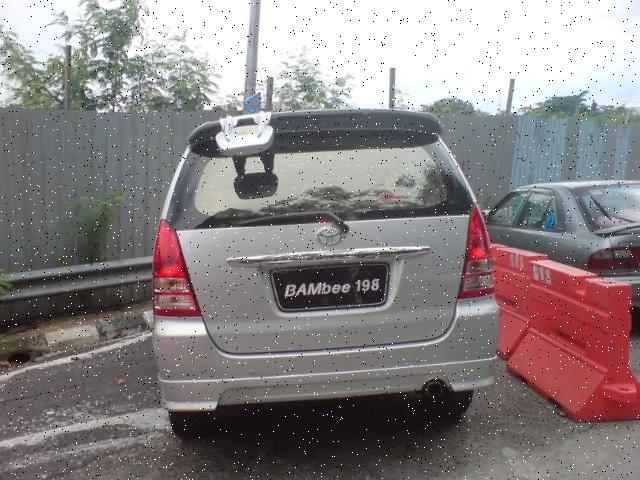License_Plate: (271, 273, 393, 314)
car: (151, 110, 504, 435)
